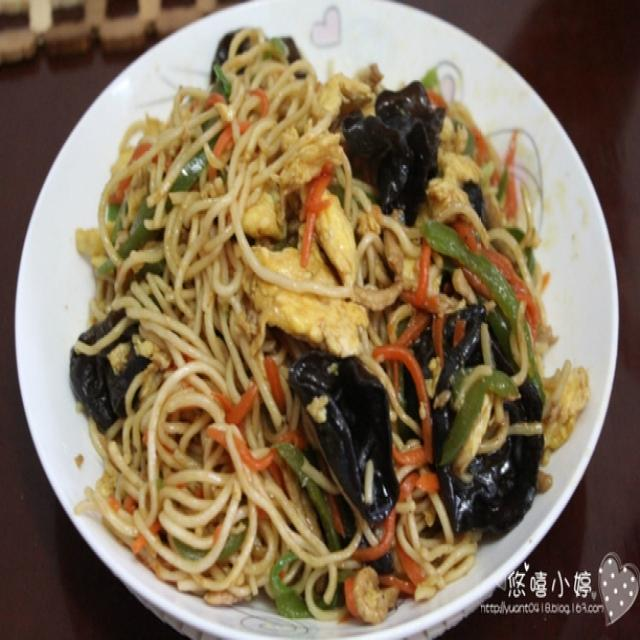面条主食: (54, 42, 584, 604)
